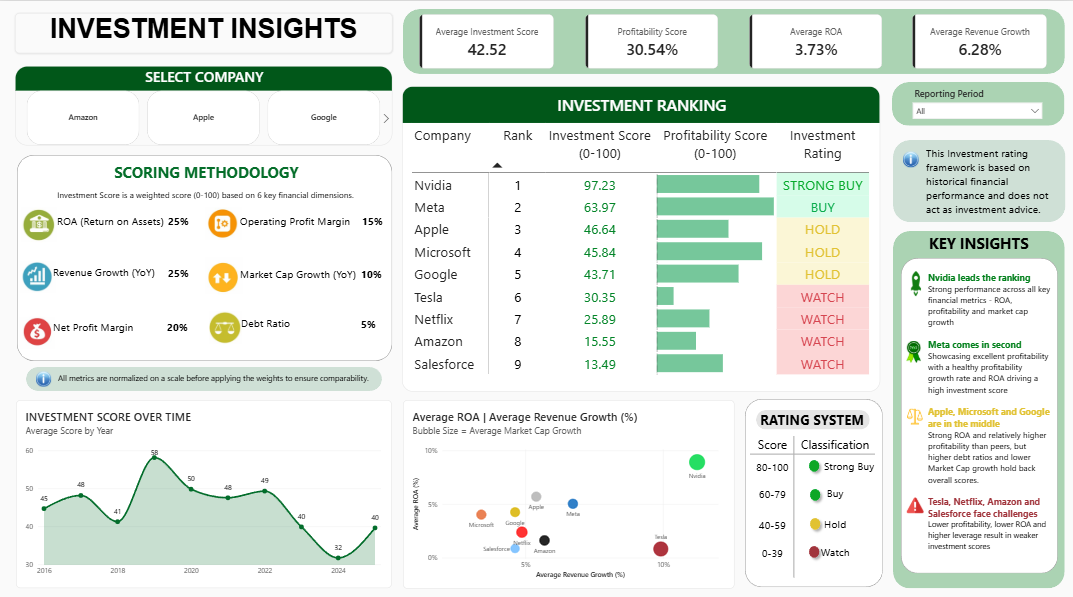

The dashboard page shown, as its layout file describes it:
{"tool":"powerbi","page":{"name":"Investment Insights","canvas":[1920,1080],"ordinal":3},"visuals":[{"type":"cardVisual","fields":{"Data":["Computations.Investment Score"]},"box":[750,22.9,241.4,98.5],"z":0,"group":"g9"},{"type":"cardVisual","fields":{"Data":["Computations.Profitability Score"]},"box":[1045.7,22.9,238.2,98.5],"z":0,"group":"g8"},{"type":"cardVisual","fields":{"Data":["Computations.Avg_ROA"]},"box":[1338.6,22.9,238.2,98.5],"z":0,"group":"g10"},{"type":"cardVisual","fields":{"Data":["Computations.Avg_Revenue_Growth%"]},"box":[1630,22.9,241.4,98.5],"z":0,"group":"g11"},{"type":"pivotTable","title":"INVESTMENT RANKING","fields":{"Rows":["public financial_performance.company"],"Values":["Computations.Investment Rank","Computations.Investment Score","Computations.Profitability Score","Computations.Investment Rating"]},"box":[720,152.5,854,546],"z":0,"group":"g12"},{"type":"shape","box":[1596.7,248.3,308.3,146.7],"z":0,"group":"g17"},{"type":"shape","box":[1596.7,410,306.7,638.3],"z":0},{"type":"image","box":[367.8,457.5,68.2,67.8],"z":0,"group":"g13"},{"type":"textbox","box":[646.7,475.3,41.2,41.6],"z":0,"group":"g15"},{"type":"image","box":[35.6,549.8,63.7,84.5],"z":0,"group":"g14"},{"type":"textbox","box":[299.3,568.5,39.4,45.4],"z":0,"group":"g7"},{"type":"shape","box":[47.8,654.4,635.7,42.9],"z":0,"group":"g16"},{"type":"group","id":"g1","title":"Group 10","box":[1338.4,776.5,223.8,35],"z":0,"group":"g2"},{"type":"group","id":"g2","title":"Group 12","box":[1338.4,776.5,223.8,230],"z":0,"group":"g18"},{"type":"textbox","box":[1338.4,776.5,83.8,31.2],"z":0,"group":"g1"},{"type":"textbox","box":[1338.4,818.9,83.8,31.2],"z":0,"group":"g3"},{"type":"textbox","box":[1338.4,867.7,83.8,31.2],"z":0,"group":"g4"},{"type":"textbox","box":[1338.4,922.7,83.8,31.2],"z":0,"group":"g5"},{"type":"textbox","box":[1338.4,972.7,83.8,31.2],"z":0,"group":"g6"},{"type":"textbox","box":[1655,258.3,228.3,136.7],"z":1000,"group":"g17"},{"type":"shape","box":[1610,458.3,280,563.3],"z":1000},{"type":"textbox","box":[300.5,472,39.4,45.4],"z":1000,"group":"g7"},{"type":"textbox","box":[429.5,474.9,229,41.2],"z":1000,"group":"g13"},{"type":"textbox","box":[646.7,563.7,30.9,41.6],"z":1000,"group":"g15"},{"type":"textbox","box":[95.7,569.4,195.5,45.4],"z":1000,"group":"g14"},{"type":"textbox","box":[104.2,665.8,568.3,30],"z":1000,"group":"g16"},{"type":"textbox","box":[1422.2,776.5,140,35],"z":1000,"group":"g1"},{"type":"shape","box":[1340.5,799.4,223.3,18.3],"z":1000,"group":"g18"},{"type":"group","id":"g3","title":"Group 11","box":[1338.4,817.7,223.8,35],"z":1000,"group":"g2"},{"type":"textbox","box":[1422.2,817.7,140,35],"z":1000,"group":"g3"},{"type":"textbox","box":[1422.2,866.5,140,35],"z":1000,"group":"g4"},{"type":"textbox","box":[1422.2,921.5,140,35],"z":1000,"group":"g5"},{"type":"textbox","box":[1422.2,971.5,140,35],"z":1000,"group":"g6"},{"type":"shape","box":[1595,145,308.3,78.3],"z":2000},{"type":"image","box":[1615,258.3,28.3,48.3],"z":2000,"group":"g17"},{"type":"image","box":[367.8,358.8,64.5,78.8],"z":2000,"group":"g13"},{"type":"image","box":[39.2,364.3,64.1,70.1],"z":2000,"group":"g14"},{"type":"textbox","box":[648,379.9,41.2,41.6],"z":2000,"group":"g15"},{"type":"textbox","box":[301.7,380,39.4,45.4],"z":2000,"group":"g7"},{"type":"image","box":[66.4,654.4,27.1,42.9],"z":2000,"group":"g16"},{"type":"shape","box":[1412.4,776.5,13.8,252.5],"z":2000,"group":"g18"},{"type":"group","id":"g4","title":"Group 11","box":[1338.4,866.5,223.8,35],"z":2000,"group":"g2"},{"type":"textbox","box":[1596.7,415,306.7,41.7],"z":3000},{"type":"image","box":[38,457.8,64.1,70.1],"z":3000,"group":"g14"},{"type":"image","box":[374,553.5,59.1,59.8],"z":3000,"group":"g13"},{"type":"group","id":"g5","title":"Group 11","box":[1338.4,921.5,223.8,35],"z":3000,"group":"g2"},{"type":"shape","box":[722,14,1182,116],"z":4000},{"type":"textbox","box":[430.4,380.5,203.4,41.2],"z":4000,"group":"g13"},{"type":"textbox","box":[103.3,380.8,195.5,45.4],"z":4000,"group":"g14"},{"type":"group","id":"g6","title":"Group 11","box":[1338.4,971.5,223.8,35],"z":4000,"group":"g2"},{"type":"shape","box":[32.2,274.4,670,367.8],"z":5000},{"type":"textbox","box":[97.2,472.3,195.5,45.4],"z":5000,"group":"g14"},{"type":"textbox","box":[432.2,562.9,203.4,41.2],"z":5000,"group":"g13"},{"type":"slicer","fields":{"Values":["public financial_performance.reporting_period"]},"box":[1627.5,153.8,241.2,70],"z":6000},{"type":"group","id":"g7","title":"Group 5","box":[299.3,380,42.3,234.1],"z":6000,"group":"g14"},{"type":"textbox","box":[28,22,674,72],"z":7000},{"type":"textbox","box":[40,288,662,38],"z":8000},{"type":"group","id":"g8","title":"Group 3","box":[1045.7,22.9,238.6,98.6],"z":9000},{"type":"group","id":"g9","title":"Group 4","box":[750,22.9,241.4,98.6],"z":10000},{"type":"group","id":"g10","title":"Group 3","box":[1338.6,22.9,237.1,98.6],"z":11000},{"type":"group","id":"g11","title":"Group 4","box":[1630,22.9,241.4,98.6],"z":12000},{"type":"advancedSlicerVisual","title":"SELECT COMPANY","fields":{"Values":["public financial_performance.company"]},"box":[28,116,674,142],"z":13000},{"type":"lineChart","title":"INVESTMENT SCORE OVER TIME","fields":{"Category":["public financial_performance.Date.Variation.Date Hierarchy.Year"],"Y":["Computations.Investment Score"]},"box":[30,712.2,671.1,335.6],"z":14000},{"type":"group","id":"g12","title":"Group 2","box":[720,152.5,855,547.5],"z":15000},{"type":"scatterChart","title":"Average ROA | Average Revenue Growth (%)","fields":{"Category":["public financial_performance.company"],"Size":["Computations.Avg_Market_Cap_growth%"],"X":["Computations.Avg_Revenue_Growth%"],"Y":["Computations.Avg_ROA"]},"box":[721.7,711.7,591.7,336.7],"z":16000},{"type":"textbox","box":[36,336,666,32],"z":17000},{"type":"group","id":"g13","title":"Group 6","box":[367.8,358.8,290,254.4],"z":18000},{"type":"group","id":"g14","title":"Group 7","box":[35.6,364.3,306,270],"z":19000},{"type":"group","id":"g15","title":"Group 8","box":[646.7,379.9,42.2,225.6],"z":20000},{"type":"group","id":"g16","title":"Group 1","box":[47.8,654.4,635.6,43.3],"z":21000},{"type":"group","id":"g17","title":"Group 9","box":[1596.7,248.3,308.3,146.7],"z":22000},{"type":"shape","box":[1331.2,711.2,246,336],"z":23000},{"type":"shape","box":[1351.7,730,203.3,35],"z":23500},{"type":"textbox","box":[1335,730,233.3,38.3],"z":24000},{"type":"shape","box":[1437.5,811.2,36.2,38.8],"z":25000},{"type":"shape","box":[1438.8,862.5,36.2,38.8],"z":27000},{"type":"shape","box":[1438.8,915,36.2,38.8],"z":28000},{"type":"shape","box":[1437.5,965,36.2,38.8],"z":29000},{"type":"group","id":"g18","title":"Group 13","box":[1338.4,776.5,225.4,252.5],"z":30000},{"type":"textbox","box":[1658.6,482.9,218.6,532.9],"z":30001},{"type":"image","box":[1610,481.4,54.3,45.7],"z":30002},{"type":"image","box":[1615.7,885.7,40,30],"z":30003},{"type":"image","box":[1614.3,607.1,38.6,38.6],"z":30004},{"type":"image","box":[1621.2,723.8,27.5,37.5],"z":30005}]}

Visuals, with their boxes in screenshot pixels (x1, y1, x2, y2), scaled from the page's 1920x1080 canvas onto the 1073x597 screenshot:
cardVisual - Computations.Investment Score: [x1=419, y1=13, x2=554, y2=67]
cardVisual - Computations.Profitability Score: [x1=584, y1=13, x2=718, y2=67]
cardVisual - Computations.Avg_ROA: [x1=748, y1=13, x2=881, y2=67]
cardVisual - Computations.Avg_Revenue_Growth%: [x1=911, y1=13, x2=1046, y2=67]
"INVESTMENT RANKING" pivotTable: [x1=402, y1=84, x2=880, y2=386]
shape: [x1=892, y1=137, x2=1065, y2=218]
shape: [x1=892, y1=227, x2=1064, y2=579]
image: [x1=206, y1=253, x2=244, y2=290]
textbox: [x1=361, y1=263, x2=384, y2=286]
image: [x1=20, y1=304, x2=55, y2=351]
textbox: [x1=167, y1=314, x2=189, y2=339]
shape: [x1=27, y1=362, x2=382, y2=385]
"Group 10" group: [x1=748, y1=429, x2=873, y2=449]
"Group 12" group: [x1=748, y1=429, x2=873, y2=556]
textbox: [x1=748, y1=429, x2=795, y2=446]
textbox: [x1=748, y1=453, x2=795, y2=470]
textbox: [x1=748, y1=480, x2=795, y2=497]
textbox: [x1=748, y1=510, x2=795, y2=527]
textbox: [x1=748, y1=538, x2=795, y2=555]
textbox: [x1=925, y1=143, x2=1052, y2=218]
shape: [x1=900, y1=253, x2=1056, y2=565]
textbox: [x1=168, y1=261, x2=190, y2=286]
textbox: [x1=240, y1=263, x2=368, y2=285]
textbox: [x1=361, y1=312, x2=379, y2=335]
textbox: [x1=53, y1=315, x2=163, y2=340]
textbox: [x1=58, y1=368, x2=376, y2=385]
textbox: [x1=795, y1=429, x2=873, y2=449]
shape: [x1=749, y1=442, x2=874, y2=452]
"Group 11" group: [x1=748, y1=452, x2=873, y2=471]
textbox: [x1=795, y1=452, x2=873, y2=471]
textbox: [x1=795, y1=479, x2=873, y2=498]
textbox: [x1=795, y1=509, x2=873, y2=529]
textbox: [x1=795, y1=537, x2=873, y2=556]
shape: [x1=891, y1=80, x2=1064, y2=123]
image: [x1=903, y1=143, x2=918, y2=169]
image: [x1=206, y1=198, x2=242, y2=242]
image: [x1=22, y1=201, x2=58, y2=240]
textbox: [x1=362, y1=210, x2=385, y2=233]
textbox: [x1=169, y1=210, x2=191, y2=235]
image: [x1=37, y1=362, x2=52, y2=385]
shape: [x1=789, y1=429, x2=797, y2=569]
"Group 11" group: [x1=748, y1=479, x2=873, y2=498]
textbox: [x1=892, y1=229, x2=1064, y2=252]
image: [x1=21, y1=253, x2=57, y2=292]
image: [x1=209, y1=306, x2=242, y2=339]
"Group 11" group: [x1=748, y1=509, x2=873, y2=529]
shape: [x1=403, y1=8, x2=1064, y2=72]
textbox: [x1=241, y1=210, x2=354, y2=233]
textbox: [x1=58, y1=210, x2=167, y2=236]
"Group 11" group: [x1=748, y1=537, x2=873, y2=556]
shape: [x1=18, y1=152, x2=392, y2=355]
textbox: [x1=54, y1=261, x2=164, y2=286]
textbox: [x1=242, y1=311, x2=355, y2=334]
slicer - public financial_performance.reporting_period: [x1=910, y1=85, x2=1044, y2=124]
"Group 5" group: [x1=167, y1=210, x2=191, y2=339]
textbox: [x1=16, y1=12, x2=392, y2=52]
textbox: [x1=22, y1=159, x2=392, y2=180]
"Group 3" group: [x1=584, y1=13, x2=718, y2=67]
"Group 4" group: [x1=419, y1=13, x2=554, y2=67]
"Group 3" group: [x1=748, y1=13, x2=881, y2=67]
"Group 4" group: [x1=911, y1=13, x2=1046, y2=67]
"SELECT COMPANY" advancedSlicerVisual: [x1=16, y1=64, x2=392, y2=143]
"INVESTMENT SCORE OVER TIME" lineChart: [x1=17, y1=394, x2=392, y2=579]
"Group 2" group: [x1=402, y1=84, x2=880, y2=387]
"Average ROA | Average Revenue Growth (%)" scatterChart: [x1=403, y1=393, x2=734, y2=580]
textbox: [x1=20, y1=186, x2=392, y2=203]
"Group 6" group: [x1=206, y1=198, x2=368, y2=339]
"Group 7" group: [x1=20, y1=201, x2=191, y2=351]
"Group 8" group: [x1=361, y1=210, x2=385, y2=335]
"Group 1" group: [x1=27, y1=362, x2=382, y2=386]
"Group 9" group: [x1=892, y1=137, x2=1065, y2=218]
shape: [x1=744, y1=393, x2=881, y2=579]
shape: [x1=755, y1=404, x2=869, y2=423]
textbox: [x1=746, y1=404, x2=876, y2=425]
shape: [x1=803, y1=448, x2=824, y2=470]
shape: [x1=804, y1=477, x2=824, y2=498]
shape: [x1=804, y1=506, x2=824, y2=527]
shape: [x1=803, y1=533, x2=824, y2=555]
"Group 13" group: [x1=748, y1=429, x2=874, y2=569]
textbox: [x1=927, y1=267, x2=1049, y2=562]
image: [x1=900, y1=266, x2=930, y2=291]
image: [x1=903, y1=490, x2=925, y2=506]
image: [x1=902, y1=336, x2=924, y2=357]
image: [x1=906, y1=400, x2=921, y2=421]
